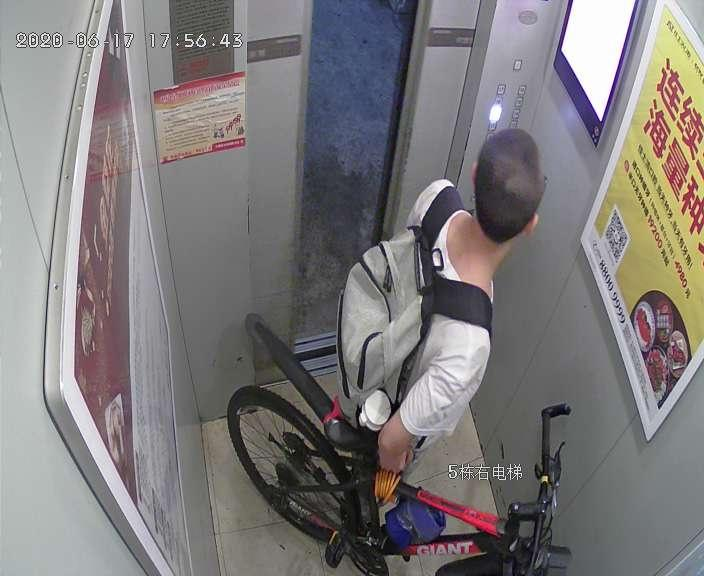person: (347, 135, 544, 464)
